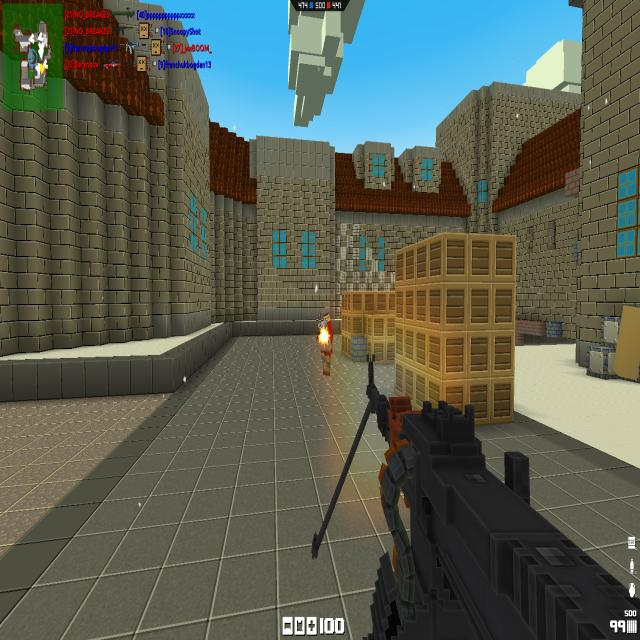player: (318, 321, 332, 377), (323, 313, 333, 352)
